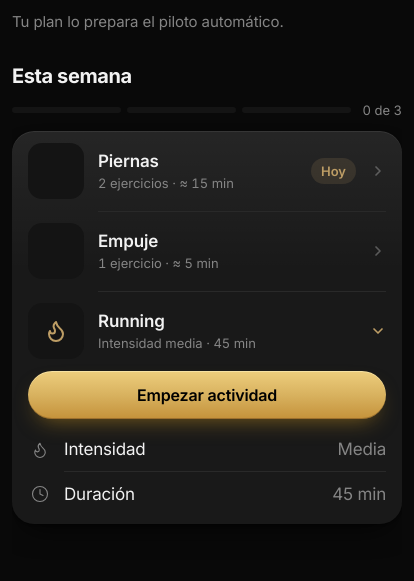
Test: routine in order › opens the session asked for from Hoy and any other on tap
Later steps or results of the test are not shown.
Expected: the text "45 min" is shown, [332,483,386,505]
Click the button "Empezar actividad". click: {"x": 207, "y": 395}
box: [28,371,386,419]
Click the button "Piernas 2 ejercicios · ≈ 15 min Hoy". click: {"x": 56, "y": 171}
box: [12,131,402,211]
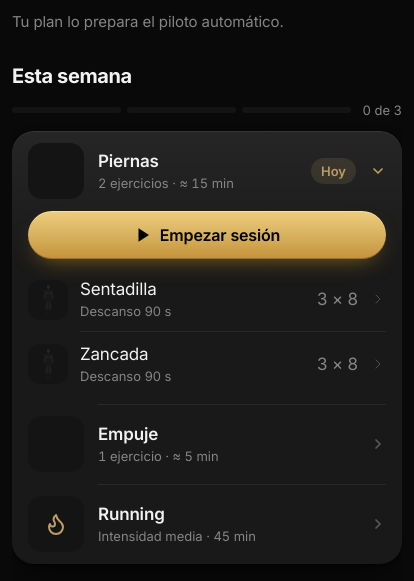
Expected: the element named "Ejercicios" shows "Zancada", [12,332,402,396]
